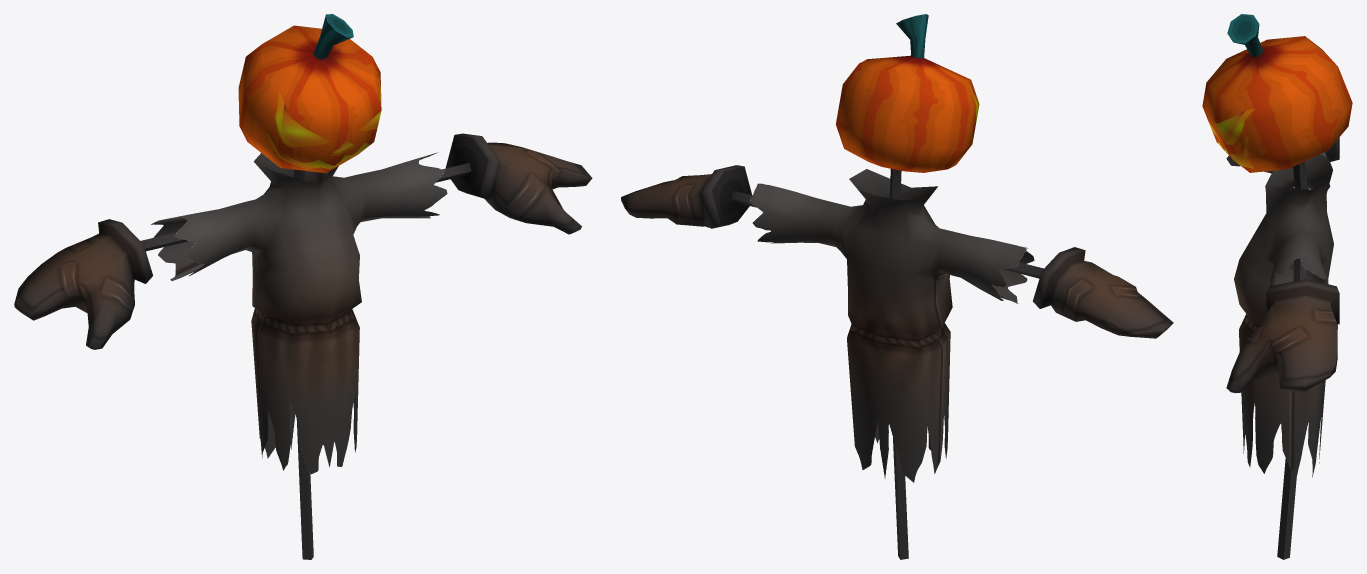
The model's file is Scare_Crow.FBX.
The picture shows the model from 3 angles, left to right: view 1: azimuth 30°, elevation 25°; view 2: azimuth 150°, elevation 25°; view 3: azimuth 270°, elevation 25°; orthographic projection. The views are drawn at different scales.
Parts seen in each view (by area): view 1: Scare_Crow; view 2: Scare_Crow; view 3: Scare_Crow.
Part boxes in pixels (bbox=[...]): Scare_Crow: bbox=[14, 14, 592, 559]; Scare_Crow: bbox=[621, 14, 1173, 559]; Scare_Crow: bbox=[1202, 14, 1352, 559].
Bounding box in the file's own units: 109 × 102 × 25.63.
